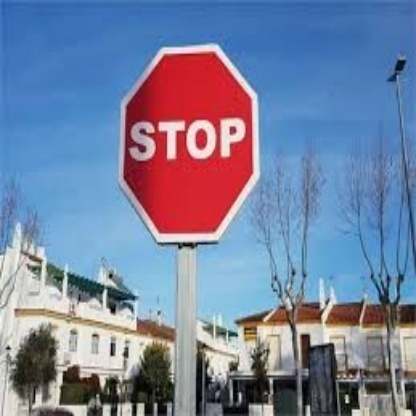stop: (117, 47, 259, 247)
